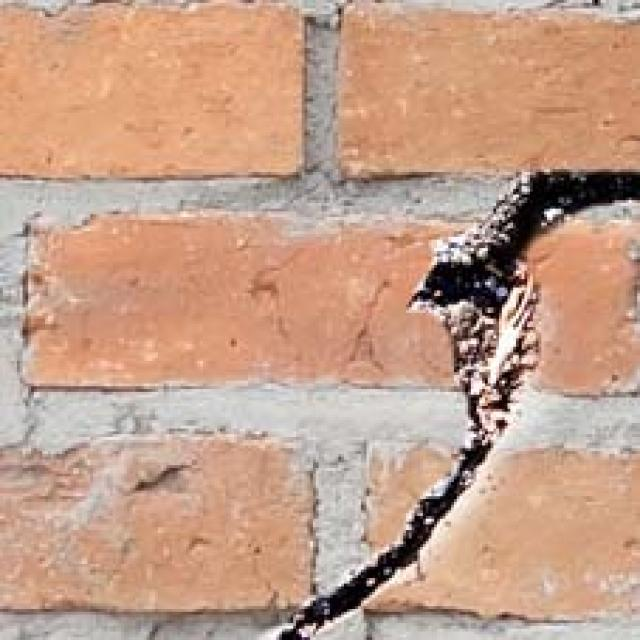Crack: (231, 149, 637, 640)
